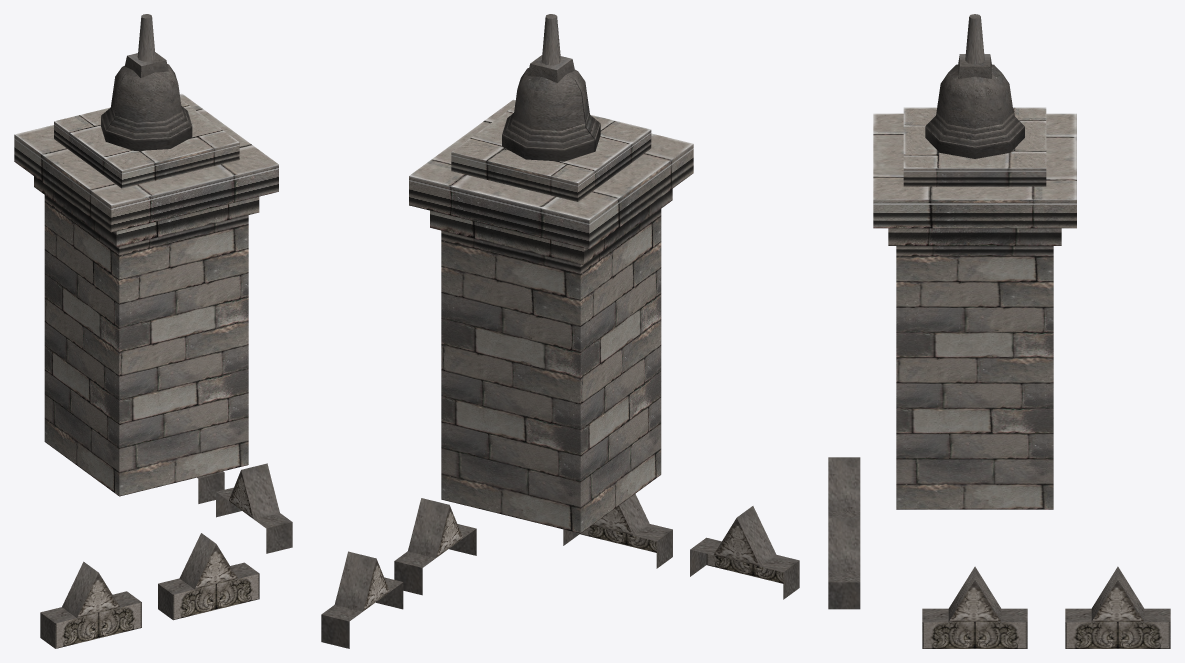
Rendered from Modul_F.FBX.
3 renders of one model, left to right at view 1: azimuth 30°, elevation 25°; view 2: azimuth 150°, elevation 25°; view 3: azimuth 270°, elevation 25°, orthographic. The views are drawn at different scales.
Parts seen in each view (by area): view 1: Modul_F; view 2: Modul_F; view 3: Modul_F.
Part boxes in pixels (x1,y1,x2,y2): Modul_F: (14, 14, 292, 648); Modul_F: (321, 14, 799, 648); Modul_F: (828, 14, 1170, 648).
Size of the model in its own units: 2.03 by 3.74 by 2.03.
